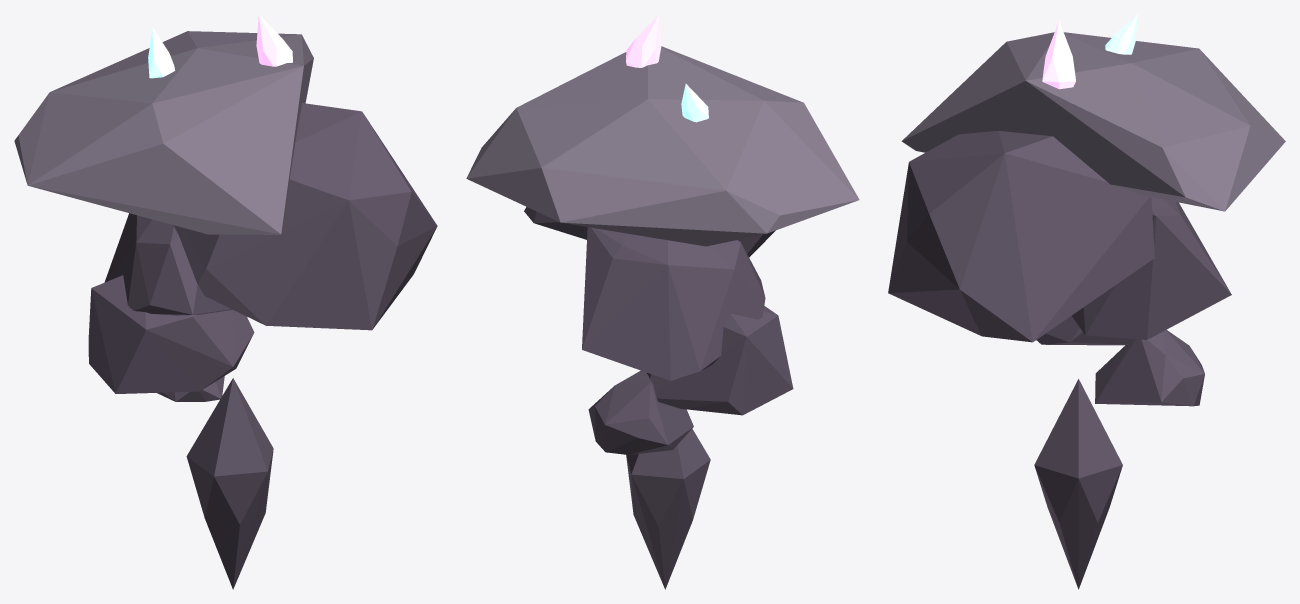
File: FloatingRock.glb
3 views of the same model, side by side, from view 1: azimuth 30°, elevation 25°; view 2: azimuth 150°, elevation 25°; view 3: azimuth 270°, elevation 25° (orthographic). The views are drawn at different scales.
Visible parts, largest first — view 1: FloatingRock; view 2: FloatingRock; view 3: FloatingRock.
Part boxes in pixels (bbox=[...]): FloatingRock: bbox=[14, 14, 437, 589]; FloatingRock: bbox=[466, 14, 859, 589]; FloatingRock: bbox=[888, 14, 1285, 589].
Size of the model in its own units: 1.1 by 1.64 by 1.02.
